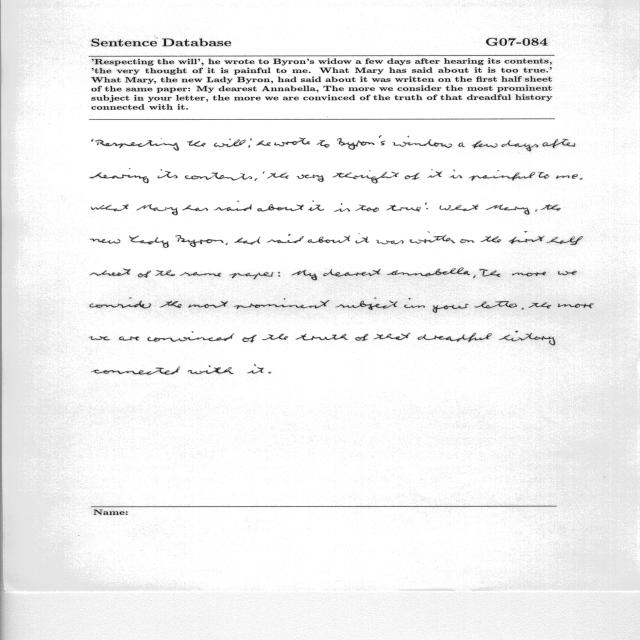word: (234, 298, 329, 309), (148, 331, 234, 342), (95, 140, 179, 151), (90, 168, 149, 183), (332, 171, 399, 184), (336, 297, 398, 310), (92, 366, 181, 375), (499, 331, 555, 345), (469, 170, 535, 181), (337, 135, 385, 150), (393, 136, 452, 148), (188, 365, 256, 375), (90, 298, 151, 309), (418, 333, 492, 342), (387, 268, 470, 276), (185, 172, 252, 181), (409, 231, 455, 244), (176, 235, 224, 247), (129, 235, 169, 248), (323, 269, 381, 277), (509, 231, 544, 244), (137, 205, 178, 216), (486, 205, 529, 215), (502, 141, 539, 152), (214, 201, 252, 211), (308, 235, 350, 243), (267, 234, 304, 243), (546, 236, 583, 245), (432, 304, 469, 313), (257, 205, 304, 212), (90, 268, 131, 276), (274, 138, 310, 147), (296, 334, 348, 340), (229, 272, 273, 279), (91, 204, 129, 212), (543, 139, 576, 148), (475, 301, 517, 308), (440, 204, 479, 211), (189, 301, 228, 308), (374, 333, 411, 340), (214, 139, 246, 147), (292, 270, 317, 280), (297, 174, 324, 182), (386, 205, 421, 211), (404, 298, 425, 308), (472, 141, 498, 149), (235, 237, 261, 245), (180, 272, 221, 277), (158, 169, 178, 178), (558, 303, 594, 308), (308, 200, 324, 211), (355, 205, 379, 212), (480, 269, 501, 277), (182, 205, 208, 211), (262, 334, 288, 340), (267, 172, 289, 179), (355, 233, 369, 244), (160, 301, 182, 308), (90, 239, 120, 244), (334, 203, 350, 212), (541, 204, 561, 211), (529, 303, 552, 309), (512, 272, 546, 276), (187, 140, 206, 147), (428, 169, 442, 178), (481, 236, 501, 242), (155, 270, 175, 276), (376, 240, 404, 244), (243, 335, 257, 343), (556, 174, 578, 179), (450, 170, 462, 179), (248, 367, 263, 374), (317, 140, 330, 148), (119, 336, 139, 341), (405, 173, 419, 180), (138, 271, 151, 278), (355, 334, 368, 341), (256, 140, 271, 146), (89, 336, 110, 340), (558, 271, 577, 275), (539, 172, 550, 178), (460, 239, 475, 243), (459, 142, 465, 147), (278, 272, 280, 277), (92, 139, 94, 142), (249, 145, 251, 148), (255, 178, 257, 181), (263, 171, 265, 174), (580, 178, 583, 180), (425, 202, 427, 205), (535, 209, 537, 212), (473, 276, 476, 278), (521, 308, 524, 310), (269, 372, 272, 374), (250, 139, 252, 141), (226, 243, 228, 245), (426, 208, 428, 209)
